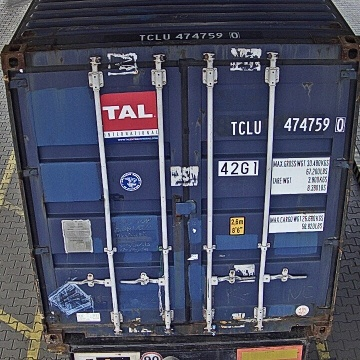serial_id: (231, 117, 345, 134)
